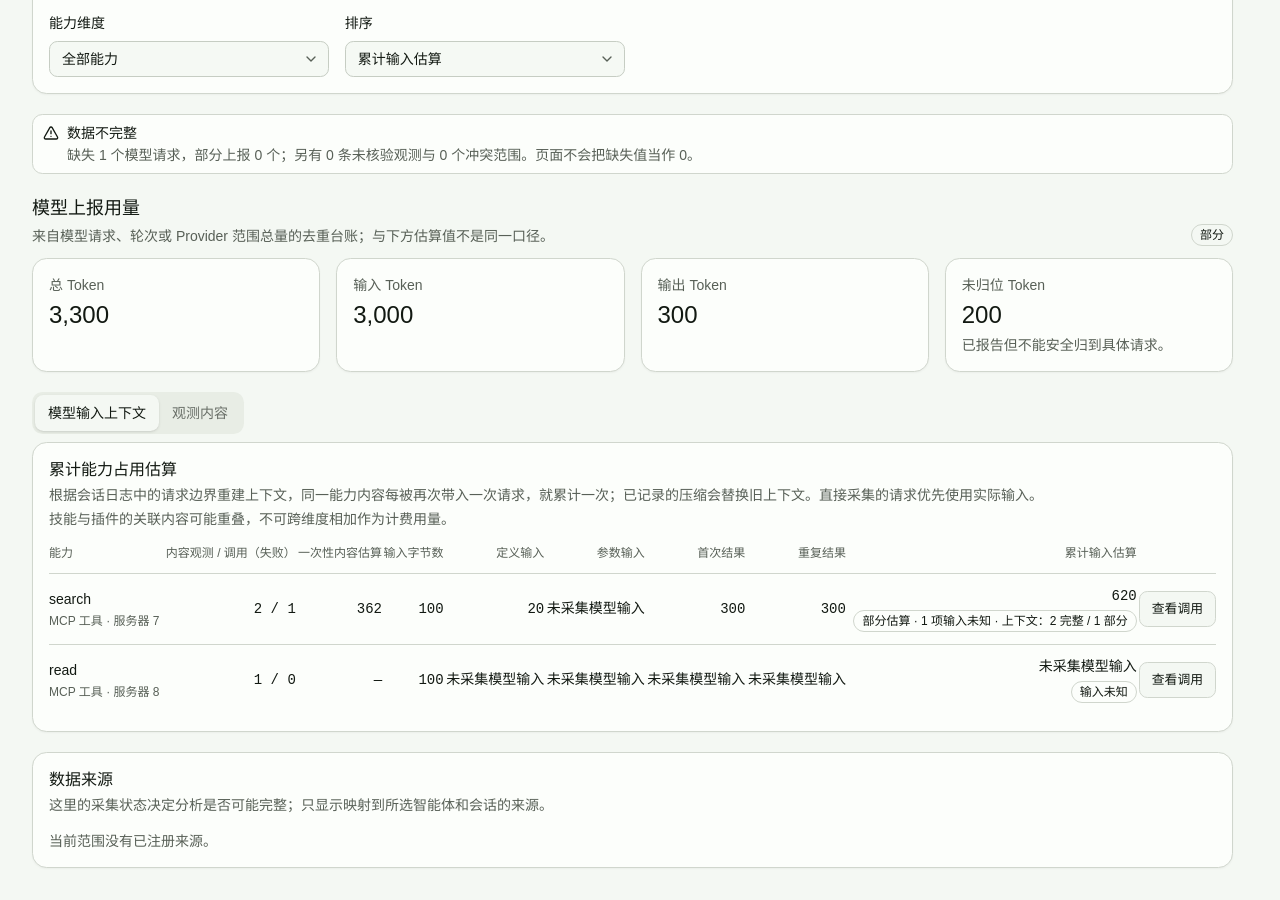
Test: explains evidence that expires between loading the list and opening its detail
(page scrolled)
Click the button with aria-label "查看 search 的调用" at x=1177, y=609, box [1139,591,1216,627]
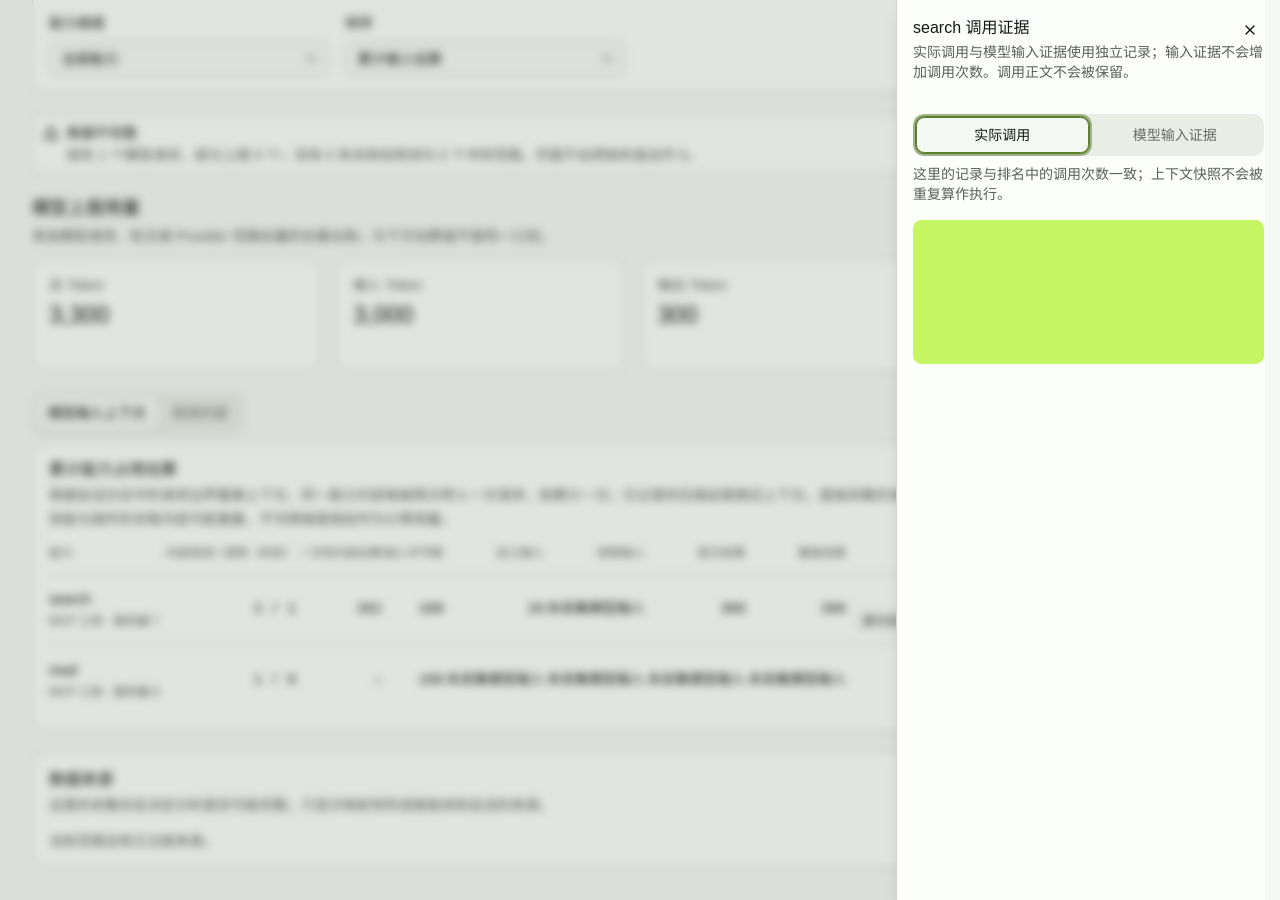
Click the tab "模型输入证据" at x=1175, y=135, box [1088,117,1261,153]
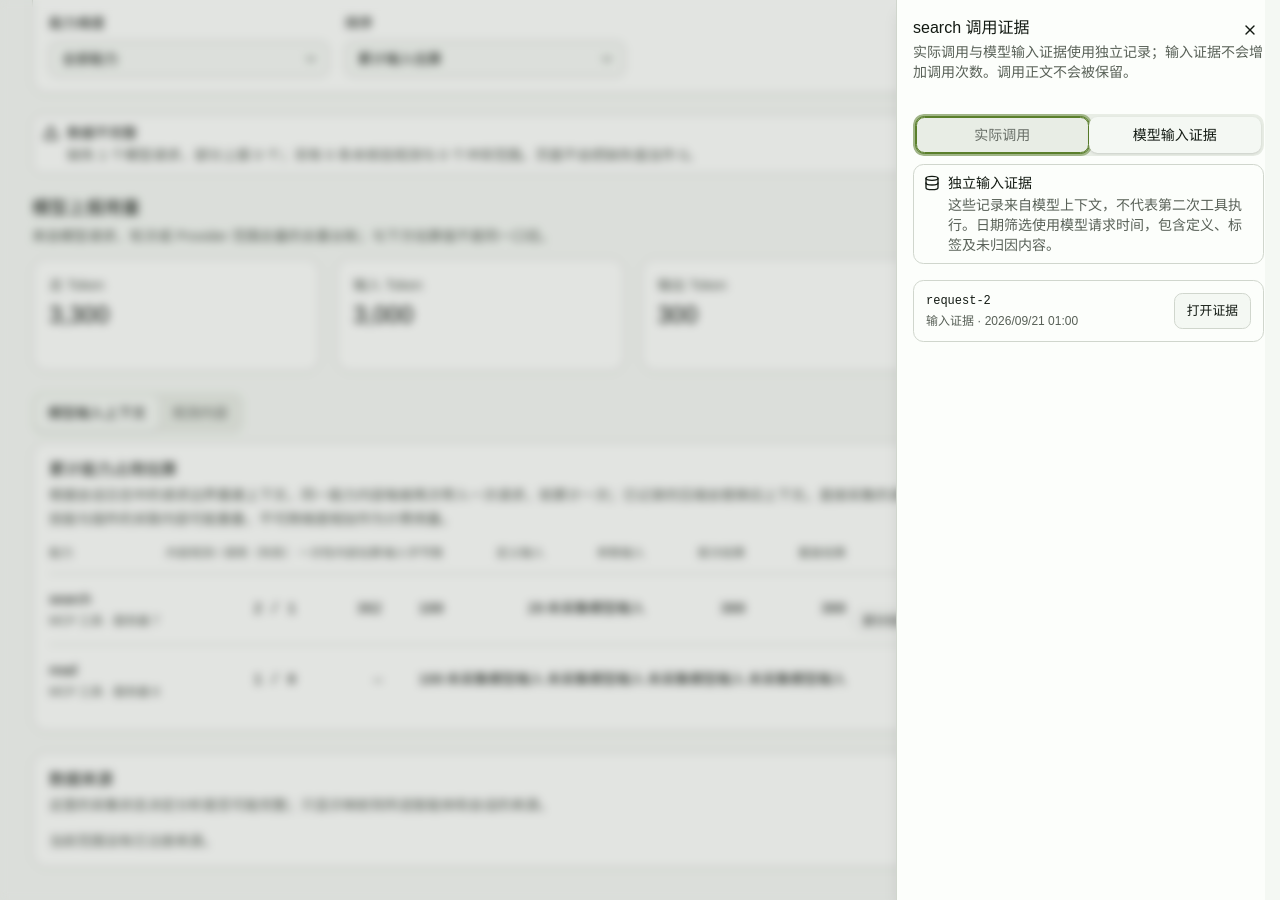
Click the button with aria-label "打开输入证据 evidence-1" at x=1212, y=311, box [1174,293,1251,329]
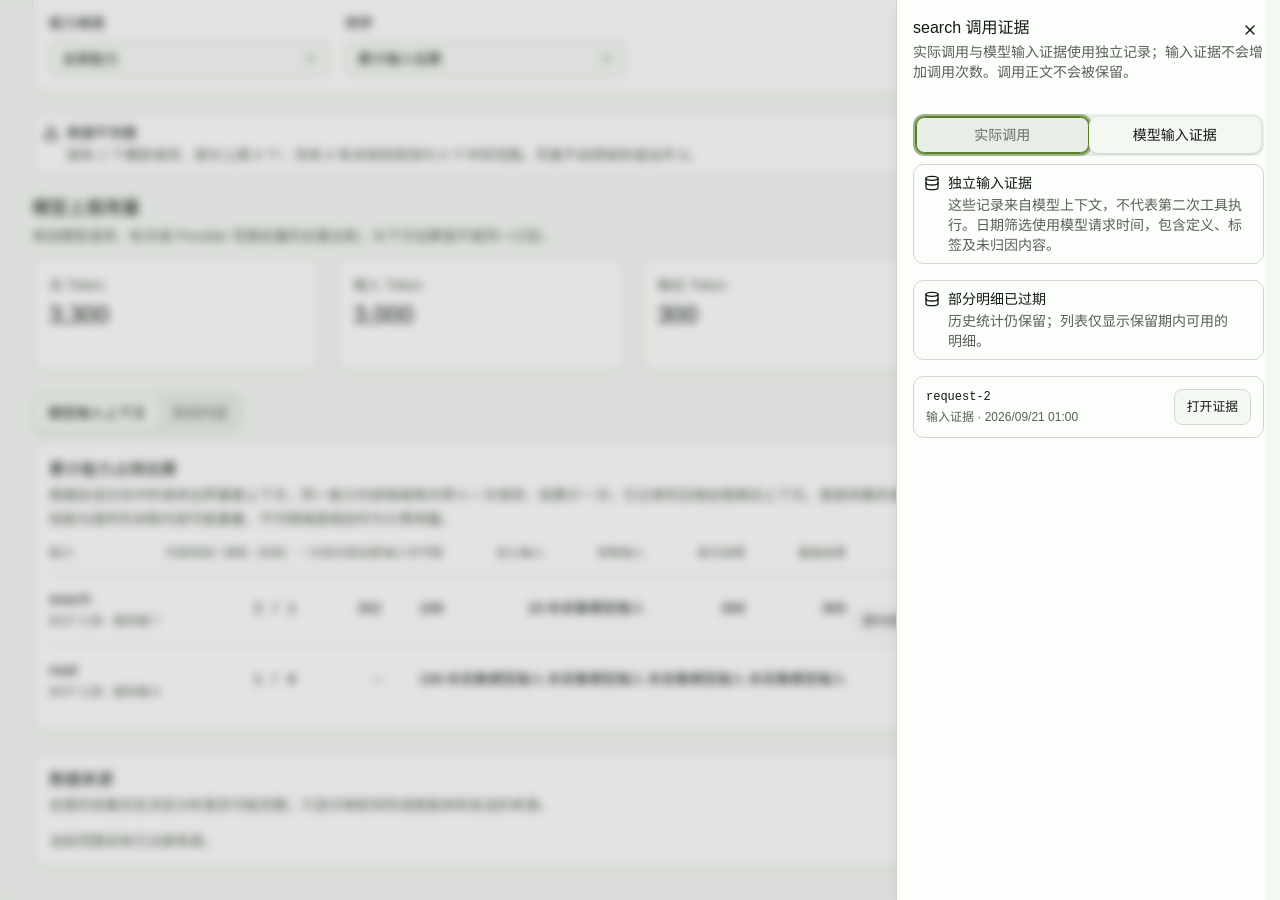
Result: the text "部分明细已过期" is shown at [948,291,1046,307]
Click the tab "实际调用" at x=1002, y=135, box [916,117,1088,153]
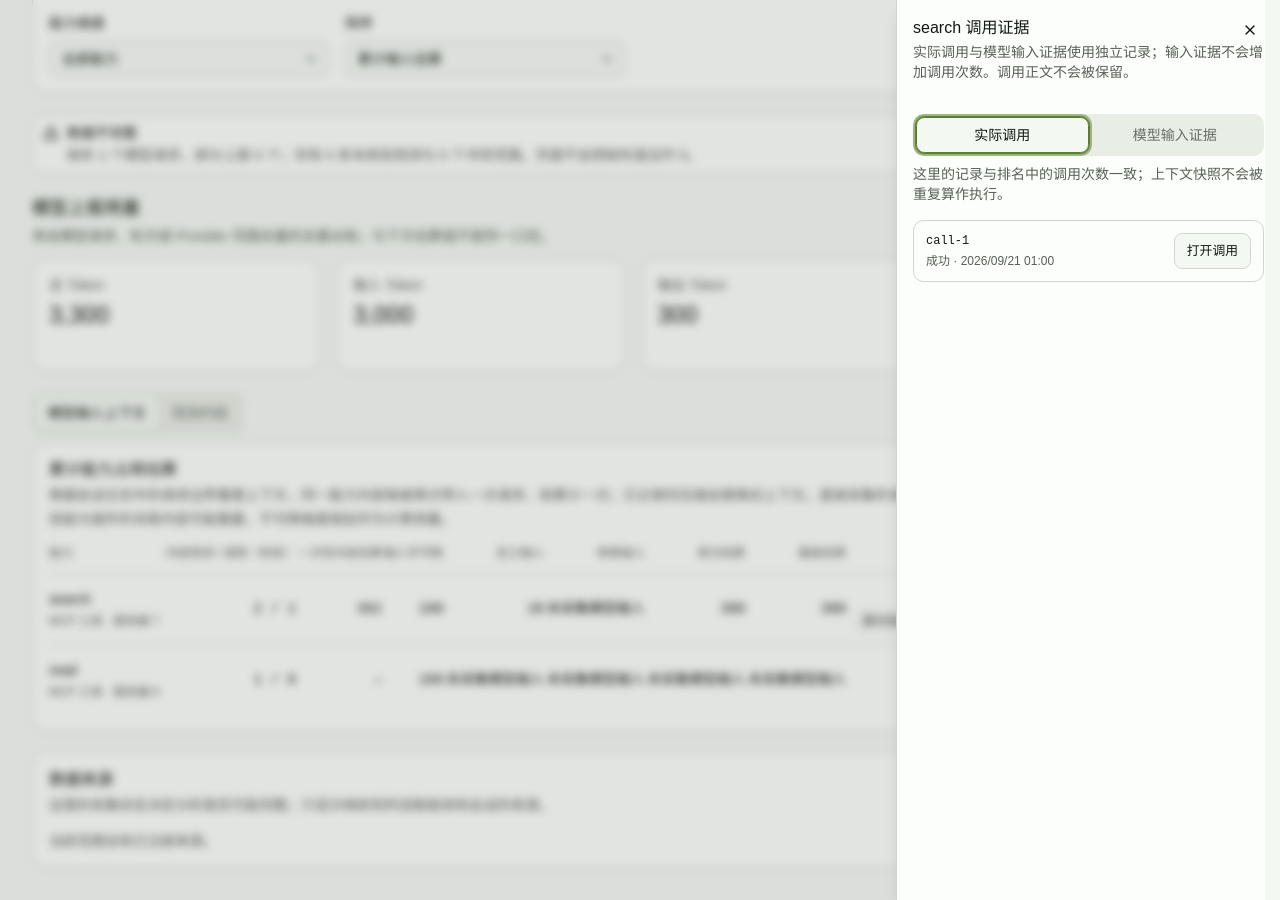
Result: the button with aria-label "打开调用 call-1" is shown at [1174,233,1251,269]
Result: the text "部分明细已过期" is gone
